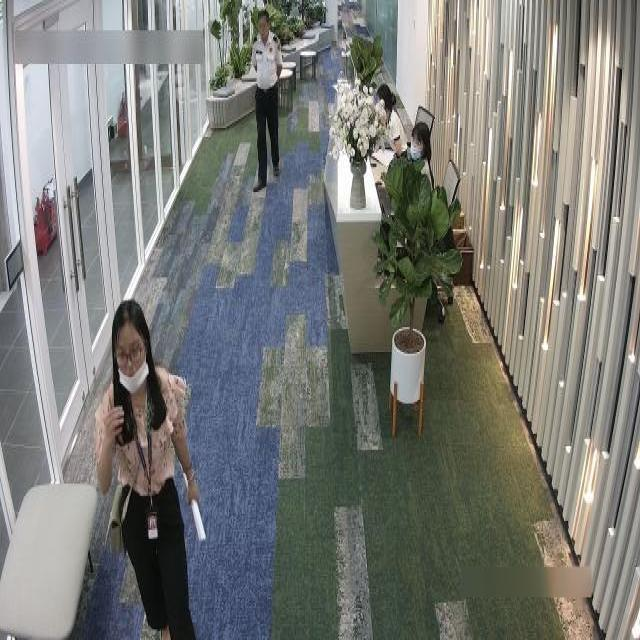bare_hand: (90, 386, 129, 457), (181, 460, 205, 510)
